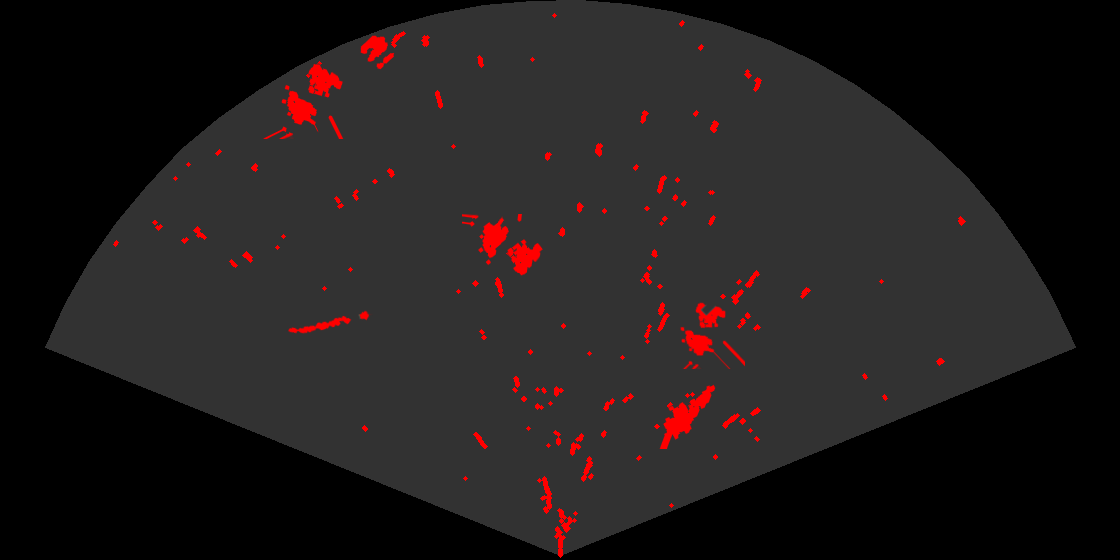ball: (359, 34, 396, 71)
cage: (262, 62, 345, 139), (462, 214, 544, 277), (679, 301, 745, 369)
chain: (286, 309, 373, 335)
frogman: (658, 383, 717, 449)
